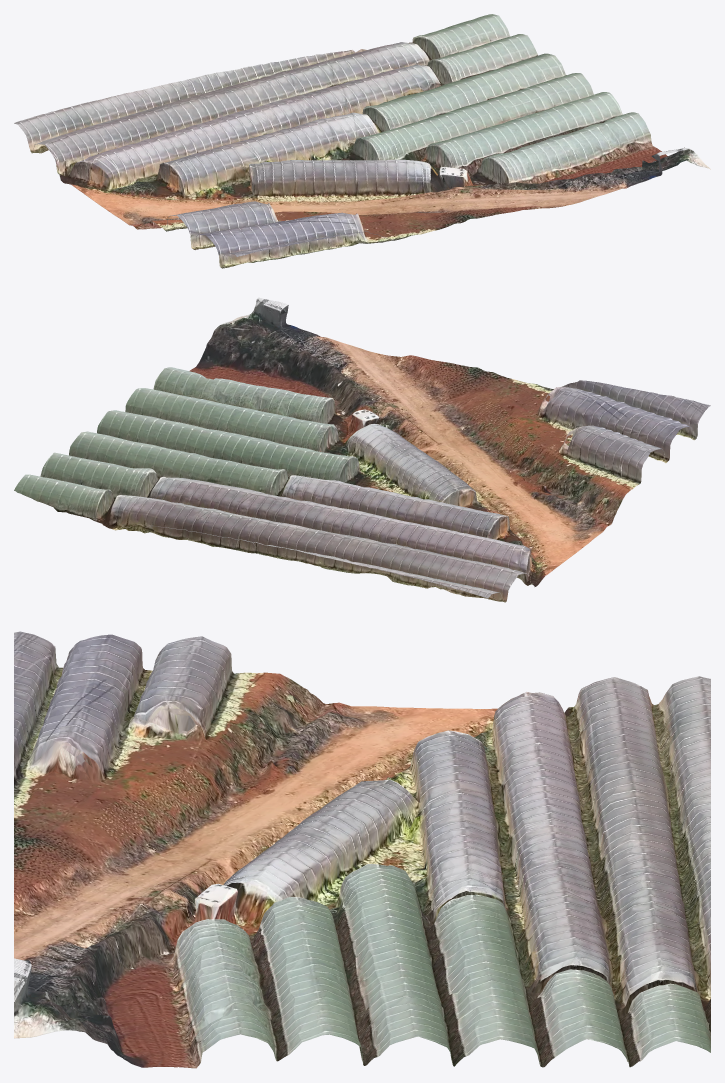
Rendered from BlockBB_L20_116.glb.
The picture shows the model from 3 angles, top to bottom: view 1: azimuth 30°, elevation 25°; view 2: azimuth 150°, elevation 25°; view 3: azimuth 270°, elevation 25°; orthographic projection. The views are drawn at different scales.
Visible parts, largest first — view 1: rtc; view 2: rtc; view 3: rtc.
Boxes of the visible parts, box(x1,y1,x2,y2) form: rtc: box(14, 14, 710, 268); rtc: box(14, 297, 710, 602); rtc: box(14, 631, 710, 1068).
Bounding box in the file's own units: 52.54 × 5.76 × 42.83.
8 materials, 8 textured.
